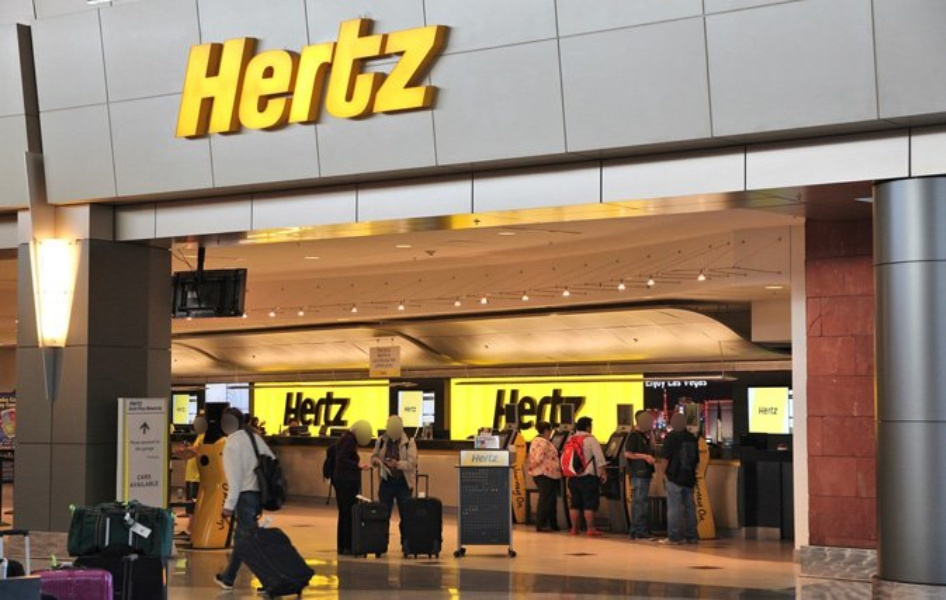text: (433, 5, 449, 142), (193, 5, 208, 142), (209, 5, 224, 142), (225, 5, 240, 142), (241, 5, 256, 142), (257, 5, 272, 142), (273, 5, 288, 142), (289, 5, 304, 142), (305, 5, 320, 142), (321, 5, 336, 142), (337, 5, 352, 142), (353, 5, 368, 142), (369, 5, 384, 142), (385, 5, 400, 142), (401, 5, 416, 142), (417, 5, 432, 142), (497, 388, 512, 433), (513, 388, 528, 433), (529, 388, 544, 433), (545, 388, 560, 433), (561, 388, 576, 433), (513, 460, 526, 511), (337, 390, 353, 429), (289, 390, 304, 429), (305, 390, 320, 429), (321, 390, 336, 429), (693, 477, 704, 523), (577, 388, 588, 433), (491, 388, 496, 433), (769, 404, 781, 418), (657, 380, 672, 391), (673, 380, 688, 391), (689, 380, 704, 391), (481, 453, 496, 464), (284, 390, 288, 429), (509, 460, 512, 511), (758, 404, 768, 418), (705, 477, 708, 523), (644, 380, 656, 391), (145, 481, 161, 489), (129, 481, 144, 489), (129, 400, 145, 407), (470, 453, 480, 464), (129, 405, 144, 412), (145, 405, 160, 412), (129, 439, 144, 446), (145, 439, 160, 446), (145, 473, 155, 481), (135, 473, 144, 481), (134, 446, 144, 453), (145, 446, 155, 453), (374, 363, 384, 370), (385, 363, 395, 370), (370, 359, 384, 363), (705, 380, 710, 391), (376, 353, 384, 359), (385, 353, 393, 359), (385, 359, 397, 363), (385, 348, 394, 353), (497, 453, 501, 464), (377, 348, 384, 353), (161, 405, 165, 412), (127, 481, 128, 489), (127, 405, 128, 412), (161, 439, 162, 446)
